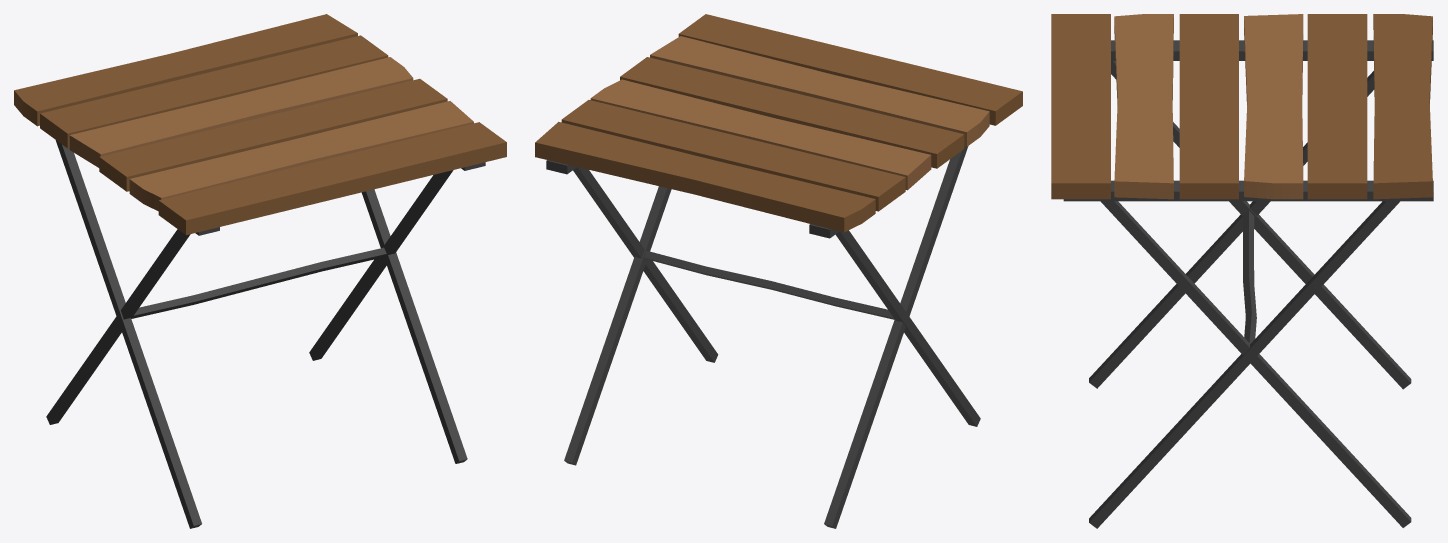
File: SM_Props_Cafe_07.fbx
The picture shows the model from 3 angles, left to right: view 1: azimuth 30°, elevation 25°; view 2: azimuth 150°, elevation 25°; view 3: azimuth 270°, elevation 25°; orthographic projection. The views are drawn at different scales.
Parts seen in each view (by area): view 1: SM_Props_Cafe_07; view 2: SM_Props_Cafe_07; view 3: SM_Props_Cafe_07.
Part boxes in pixels (bbox=[...]): SM_Props_Cafe_07: bbox=[14, 14, 506, 528]; SM_Props_Cafe_07: bbox=[535, 14, 1022, 528]; SM_Props_Cafe_07: bbox=[1051, 14, 1433, 528].
Bounding box in the file's own units: 0.8117 × 0.7984 × 0.7741.
